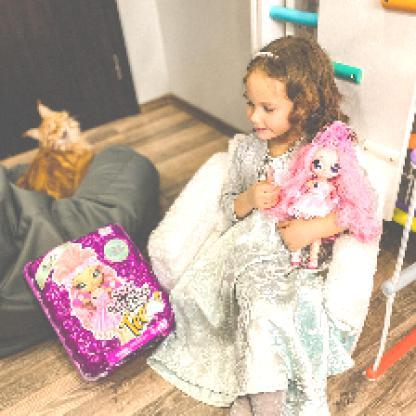child: (144, 33, 367, 416)
